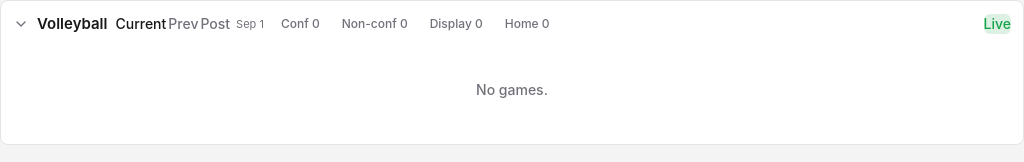
Scenario: SportSection › uses distinct empty copy for current, prev, and post
Check: the text "No games." is shown, box left=476, top=80, right=548, bottom=100
Click the button "Prev": {"x": 183, "y": 24} left=168, top=14, right=198, bottom=34
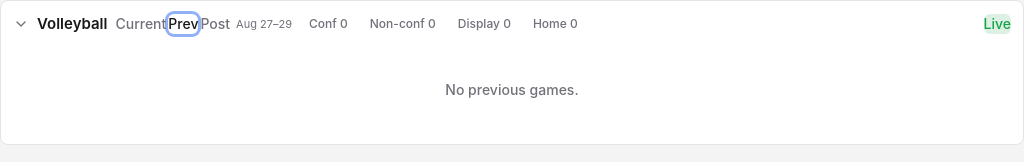
Check: the text "No previous games." is shown, box left=445, top=80, right=579, bottom=100
Check: the text "No games." is gone
Click the button "Post": {"x": 215, "y": 24} left=200, top=14, right=230, bottom=34
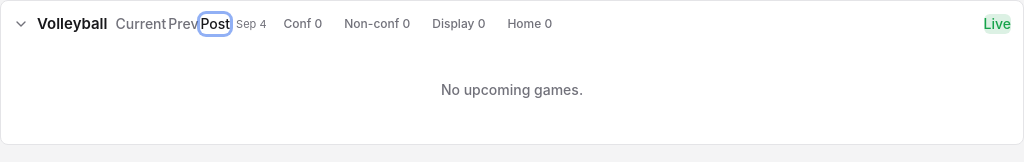
Check: the text "No upcoming games." is shown, box left=441, top=80, right=583, bottom=100
Check: the text "No previous games." is gone
